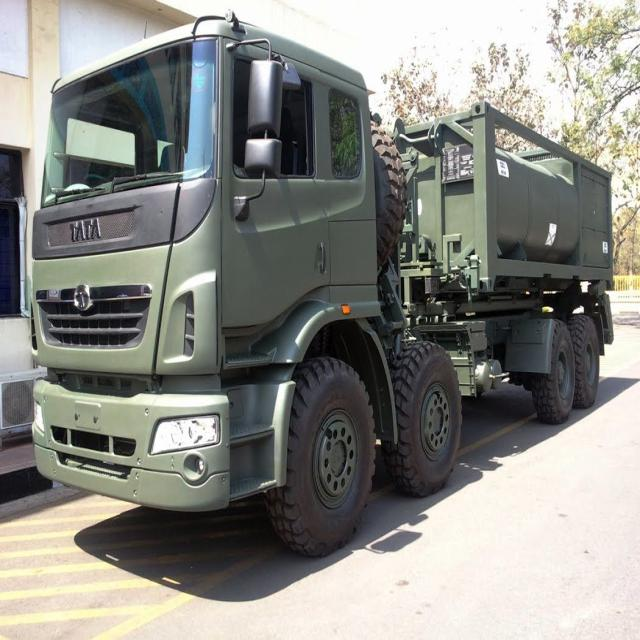truck: (32, 13, 614, 555)
